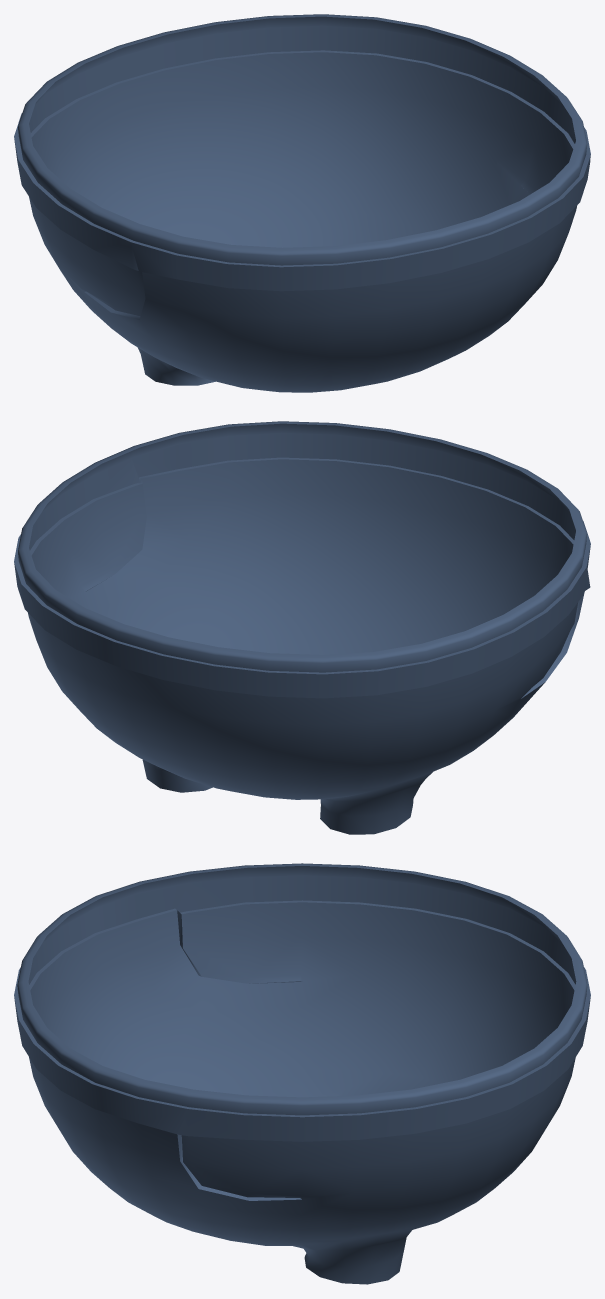
3 views of the same model, one above another, from view 1: azimuth 30°, elevation 25°; view 2: azimuth 150°, elevation 25°; view 3: azimuth 270°, elevation 25° (orthographic). The views are drawn at different scales.
Visible parts, largest first — view 1: jeans; view 2: jeans; view 3: jeans.
Boxes of the visible parts, box(x1,y1,x2,y2) form: jeans: box(14, 14, 590, 392); jeans: box(14, 421, 590, 834); jeans: box(14, 863, 590, 1284).
Size of the model in its own units: 1.37 by 0.6356 by 1.37.
